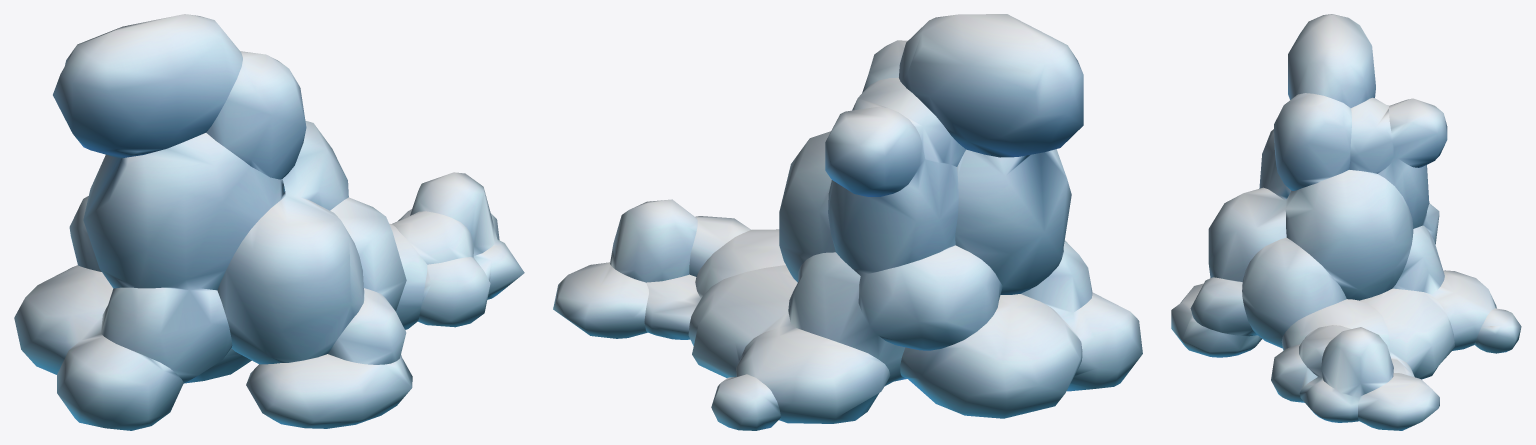
The model's file is cloud_tall.fbx.
3 renders of one model, left to right at view 1: azimuth 30°, elevation 25°; view 2: azimuth 150°, elevation 25°; view 3: azimuth 270°, elevation 25°, orthographic. The views are drawn at different scales.
Parts seen in each view (by area): view 1: cloud_tall; view 2: cloud_tall; view 3: cloud_tall.
Boxes of the visible parts, <box> form: cloud_tall: <box>14,14,524,430</box>; cloud_tall: <box>553,14,1142,430</box>; cloud_tall: <box>1171,14,1521,430</box>.
Size of the model in its own units: 9.02 by 6.31 by 7.22.
